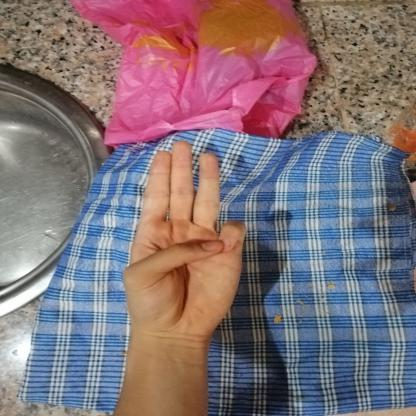THA: (110, 126, 258, 349)
